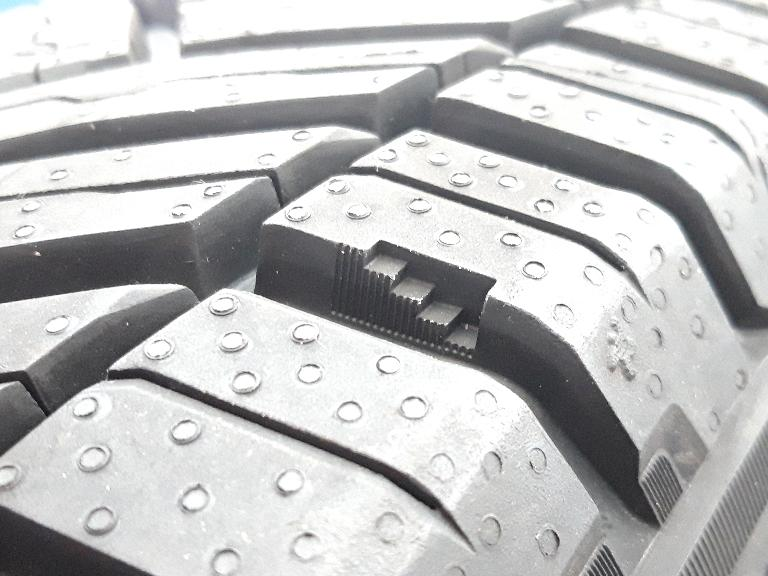temoin:100: (324, 232, 502, 367)
